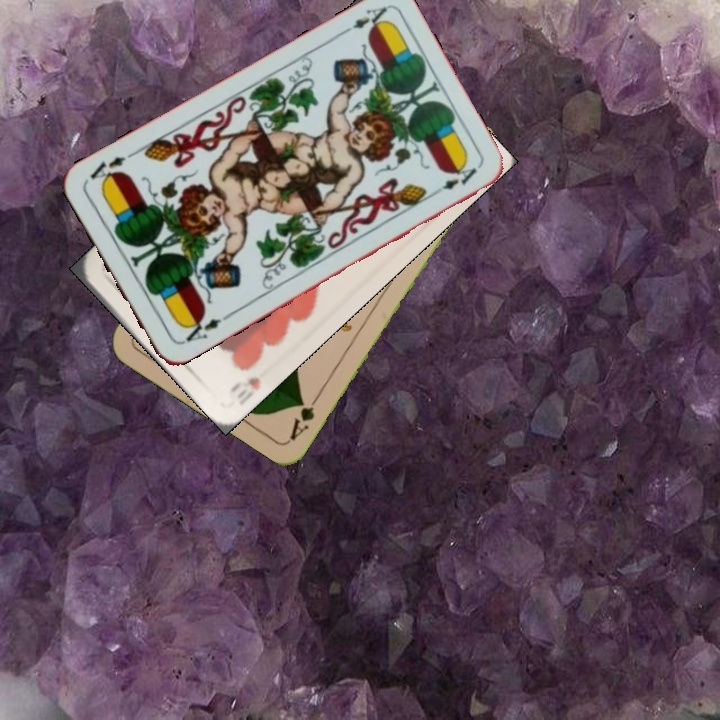EA: (336, 2, 391, 39), (177, 311, 224, 347)
GA: (285, 389, 323, 443)
H10: (225, 373, 263, 408)
